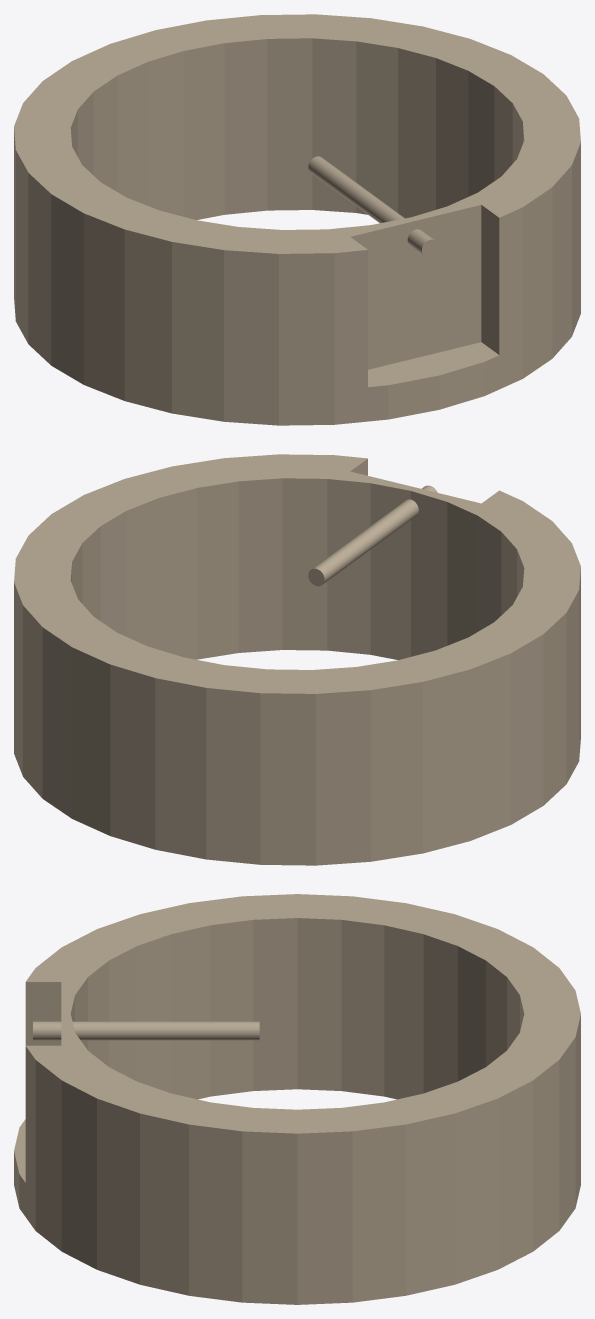
The model's file is mg_nest.glb.
3 renders of one model, top to bottom at view 1: azimuth 30°, elevation 25°; view 2: azimuth 150°, elevation 25°; view 3: azimuth 270°, elevation 25°, orthographic.
Visible parts, largest first — view 1: mg_nest; view 2: mg_nest; view 3: mg_nest.
Boxes of the visible parts, x1,y1,x2,y2 form: mg_nest: [14, 14, 580, 425]; mg_nest: [14, 454, 580, 865]; mg_nest: [14, 894, 580, 1304].
Bounding box in the file's own units: 3 × 1 × 3.
